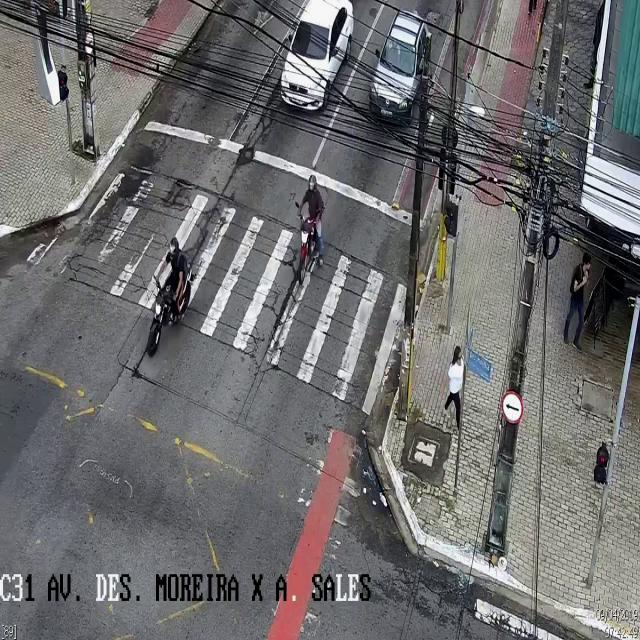Car: (269, 0, 363, 126), (369, 9, 431, 131)
Motorcycle: (145, 238, 191, 356), (294, 172, 326, 284)
